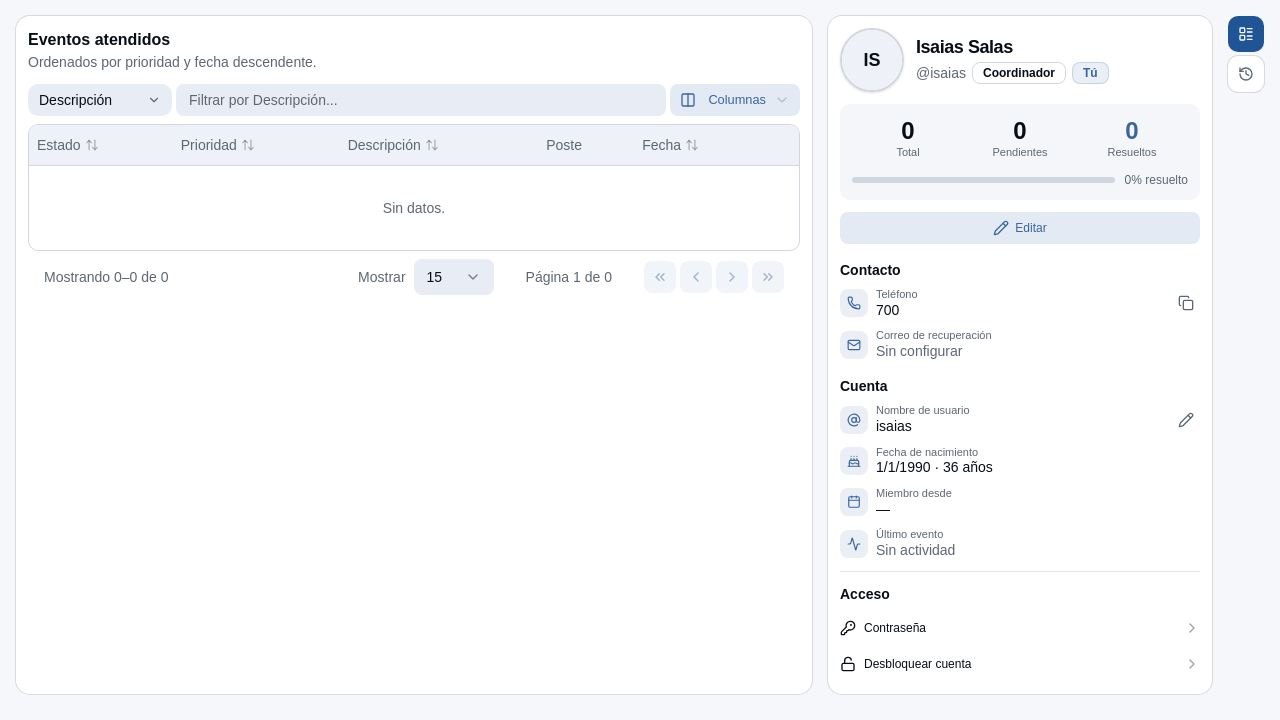
Test: changing your own username › offers a name and no password box, even on your own profile
The width and height of the screenshot is (1280, 720).
Step 1. Click the button named "cambiar usuario" → (1186, 420), box [1172,406,1200,434]
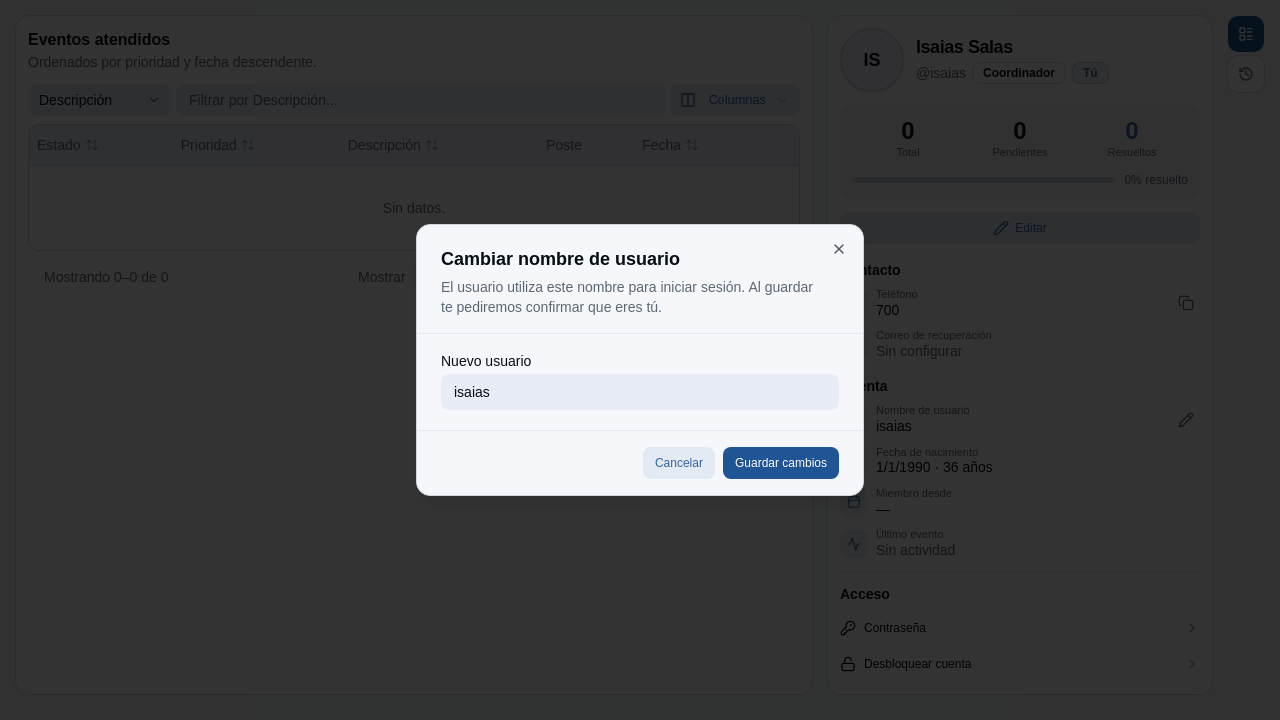
Check: the field labelled "Nuevo usuario" is shown, box [441,374,839,410]
